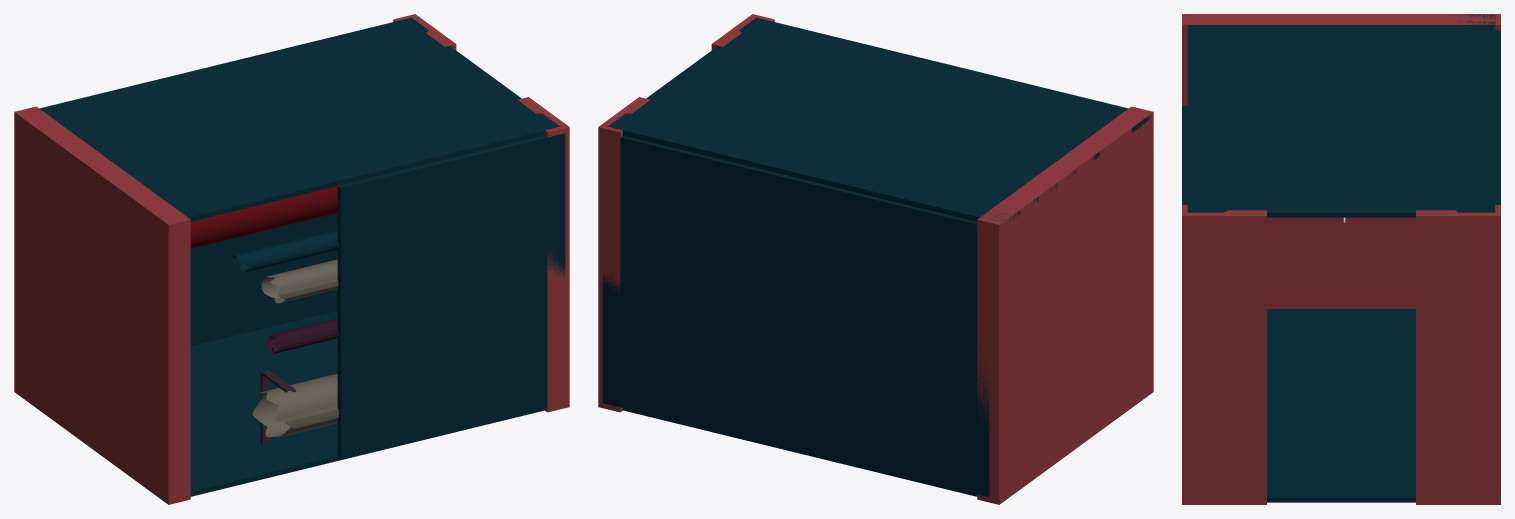
Rendered from cañosrotos.fbx.
The picture shows the model from 3 angles, left to right: view 1: azimuth 30°, elevation 25°; view 2: azimuth 150°, elevation 25°; view 3: azimuth 270°, elevation 25°; orthographic projection. The views are drawn at different scales.
Parts seen in each view (by area): view 1: Cube.018, Cube.020, Cube.024, Cube.025, Cube.019, Cube.021, Cube.022, Cylinder.024, Cylinder.022, Cylinder.023, Cylinder.026, Cylinder.025 (+1 smaller); view 2: Cube.021, Cube.020, Cube.024, Cube.025, Cube.023, Cube.019; view 3: Cube.020, Cube.019, Cube.023, Cube.022, Cube.024, Cube.021, Cube.018, Cube.025.
Part boxes in pixels (x1,y1,x2,y2): Cube.018: [337, 133, 565, 457]; Cube.020: [39, 17, 559, 221]; Cube.024: [14, 106, 190, 503]; Cube.025: [127, 195, 190, 504]; Cube.019: [190, 310, 544, 496]; Cube.021: [190, 213, 337, 346]; Cube.022: [517, 97, 569, 412]; Cylinder.024: [190, 186, 337, 247]; Cylinder.022: [252, 373, 338, 438]; Cylinder.023: [261, 259, 338, 303]; Cylinder.026: [232, 230, 339, 274]; Cylinder.025: [265, 318, 339, 354]; Cube.021: [602, 135, 989, 497]; Cube.020: [608, 17, 1150, 226]; Cube.024: [977, 106, 1152, 504]; Cube.025: [1112, 112, 1153, 402]; Cube.023: [598, 97, 650, 412]; Cube.019: [623, 408, 977, 496]; Cube.020: [1187, 14, 1495, 217]; Cube.019: [1267, 309, 1415, 502]; Cube.023: [1416, 205, 1500, 504]; Cube.022: [1182, 205, 1266, 504]; Cube.024: [1182, 14, 1500, 308]; Cube.021: [1495, 30, 1500, 204]; Cube.018: [1182, 105, 1187, 204]; Cube.025: [1182, 25, 1187, 105].
Bounding box in the file's own units: 956 × 638 × 638.
Materials: 1 (1 with a texture image).
